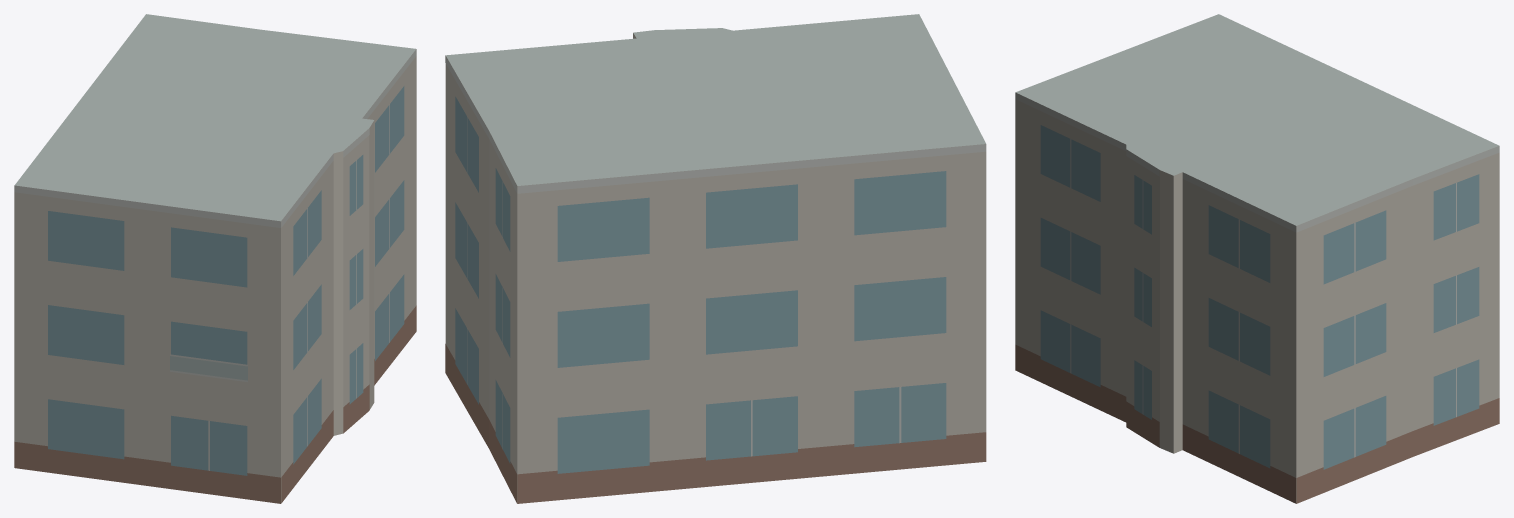
Rendered from survey-upis-32468051.glb.
The picture shows the model from 3 angles, left to right: view 1: azimuth 30°, elevation 25°; view 2: azimuth 150°, elevation 25°; view 3: azimuth 270°, elevation 25°; orthographic projection. The views are drawn at different scales.
Visible parts, largest first — view 1: survey-upis-32468051.tmp; view 2: survey-upis-32468051.tmp; view 3: survey-upis-32468051.tmp.
Part boxes in pixels (bbox=[...]): survey-upis-32468051.tmp: bbox=[14, 14, 416, 503]; survey-upis-32468051.tmp: bbox=[445, 14, 986, 503]; survey-upis-32468051.tmp: bbox=[1015, 14, 1499, 503].
Bounding box in the file's own units: 16.44 × 10.05 × 15.88.
